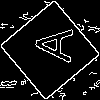A: (25, 25, 73, 63)
